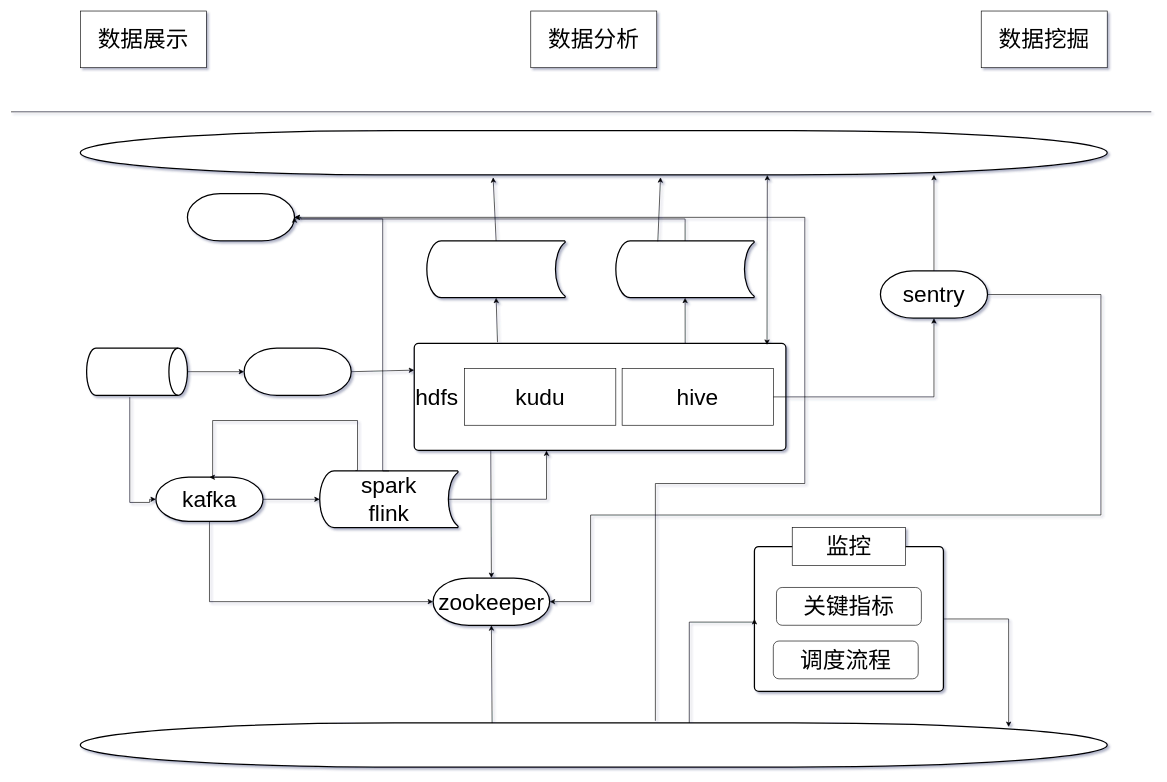
The diagram is 1167 pixels wide and 782 high, and some of its shapes have lost their labels. The box of each missing label's shape, as (x1, y1, x2, y2) in pixels:
hue: (79, 130, 1108, 175)
impala: (426, 240, 566, 298)
mapreduce: (615, 240, 755, 298)
mysql: (86, 347, 188, 396)
oozie: (79, 722, 1108, 767)
sqoop: (243, 347, 352, 396)
yarn: (186, 193, 295, 241)
